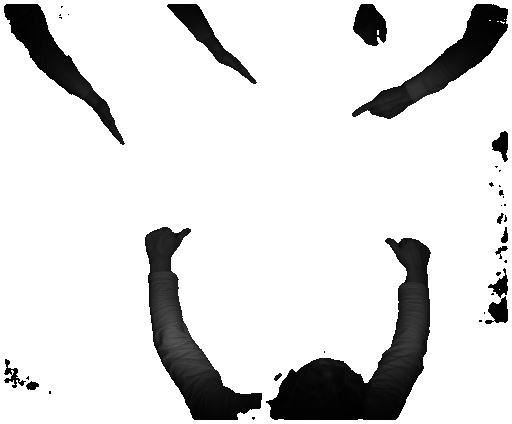hand: (386, 232, 431, 275), (144, 224, 191, 265), (352, 91, 405, 119), (352, 11, 391, 47)
spine: (91, 98, 127, 151), (216, 51, 263, 87)
